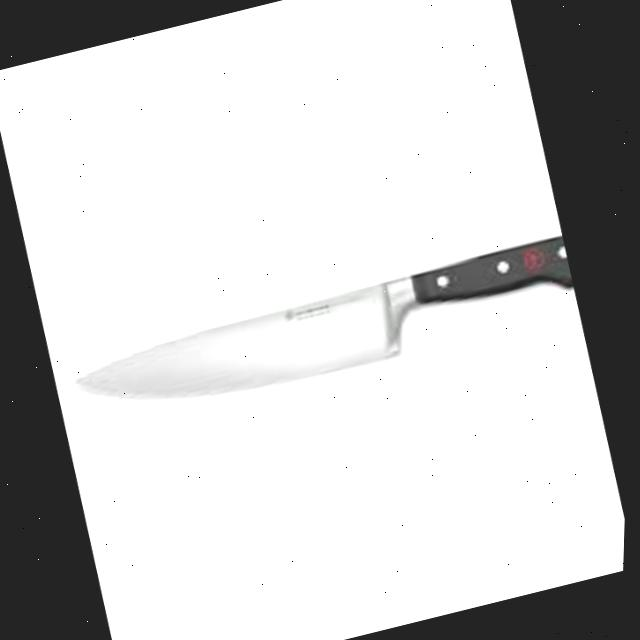knife: (60, 233, 581, 434)
